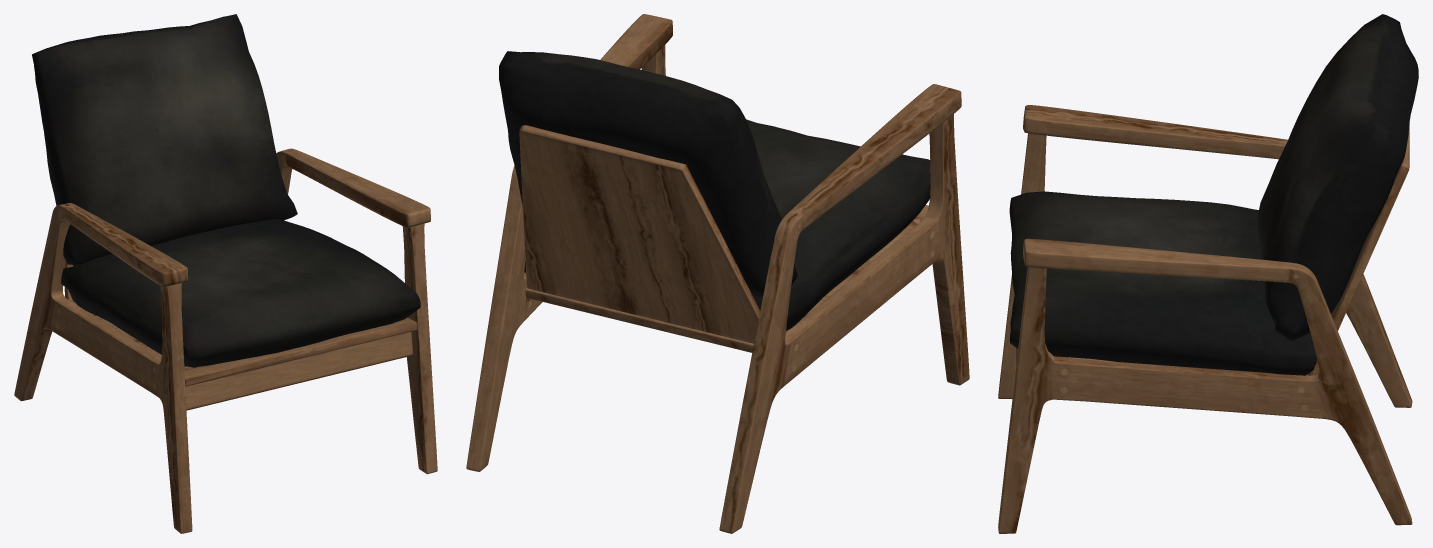
Rendered from modern_arm_chair_01.glb.
3 views of the same model, side by side, from view 1: azimuth 30°, elevation 25°; view 2: azimuth 150°, elevation 25°; view 3: azimuth 270°, elevation 25° (orthographic). The views are drawn at different scales.
Visible parts, largest first — view 1: modern_arm_chair_01; view 2: modern_arm_chair_01; view 3: modern_arm_chair_01.
Part boxes in pixels (x1=…): modern_arm_chair_01: x1=14, y1=14, x2=437, y2=533; modern_arm_chair_01: x1=466, y1=14, x2=969, y2=533; modern_arm_chair_01: x1=998, y1=14, x2=1418, y2=533.
Bounding box in the file's own units: 0.8203 × 1.02 × 0.9866.
2 materials, 2 textured.
